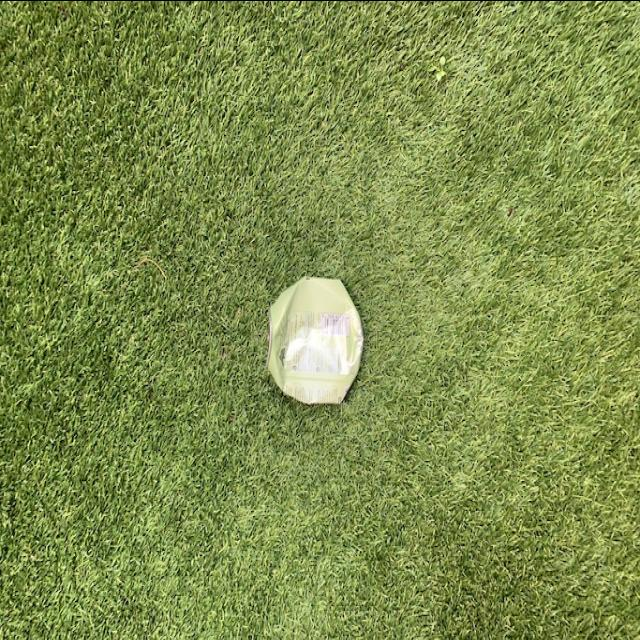litter: (268, 274, 364, 405)
